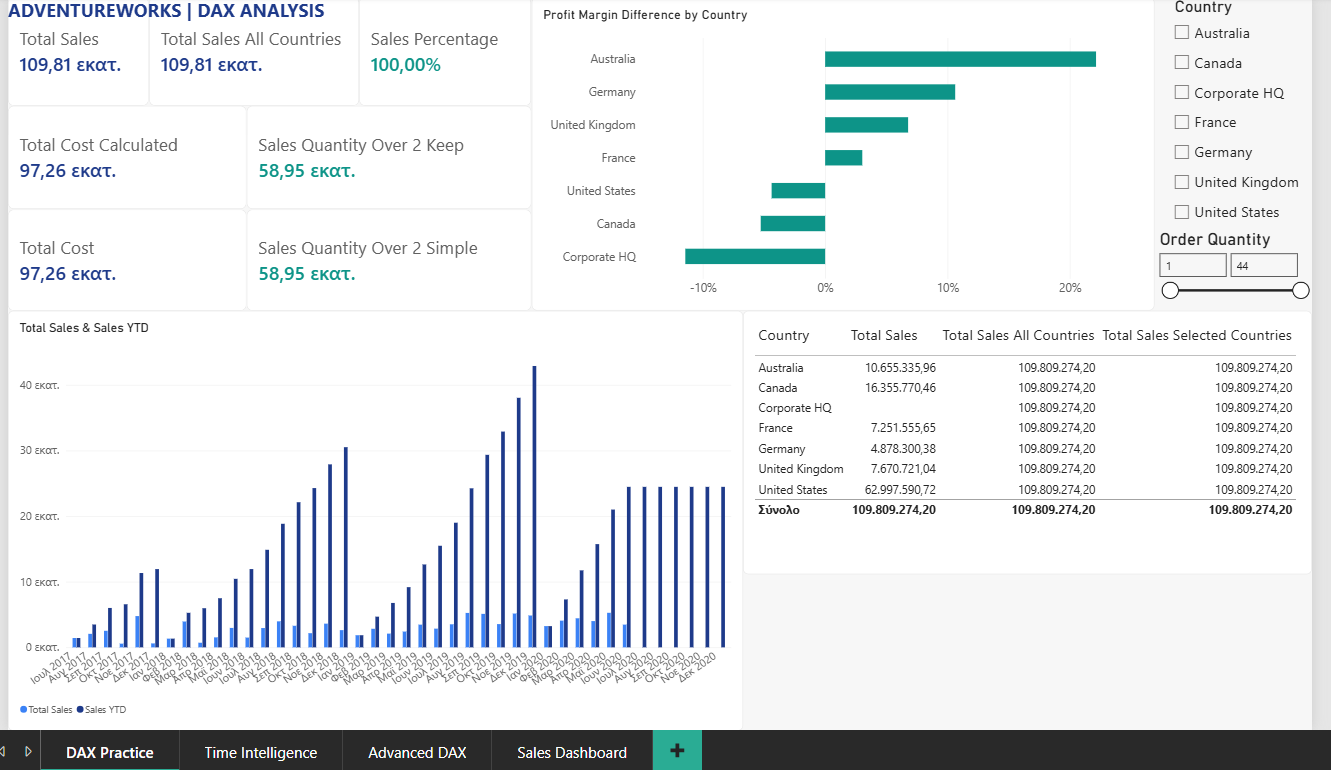

Layout of this report page (visuals, bound fields, positions):
{"tool":"powerbi","page":{"name":"DAX Practice","canvas":[1920,1080],"ordinal":0},"visuals":[{"type":"cardVisual","fields":{"Data":["Sales.Total Sales"]},"box":[0,0,208,160.1],"z":0},{"type":"slicer","fields":{"Values":["SalesTerritory.Country"]},"box":[1709.8,0,209.8,362.6],"z":1000},{"type":"cardVisual","fields":{"Data":["Sales.Total Sales All Countries"]},"box":[208,0,309.2,160.1],"z":2000},{"type":"cardVisual","fields":{"Data":["Sales.Sales Percentage"]},"box":[517.2,0,254,160.1],"z":3000},{"type":"cardVisual","fields":{"Data":["Sales.Total Cost"]},"box":[0,312.9,351.5,149.1],"z":4000},{"type":"cardVisual","fields":{"Data":["Sales.Total Cost Calculated"]},"box":[0,160.1,351.5,152.8],"z":5000},{"type":"clusteredBarChart","title":"Profit Margin Difference by Country","fields":{"Category":["SalesTerritory.Country"],"Y":["Sales.Profit Margin Difference"]},"box":[771.2,0,916.6,462],"z":6000},{"type":"slicer","fields":{"Values":["Sales.Order Quantity"]},"box":[1687.7,342.3,231.9,237.4],"z":7000},{"type":"cardVisual","fields":{"Data":["Sales.Sales Quantity Over 2 Simple"]},"box":[351.5,312.9,419.6,149.1],"z":8000},{"type":"cardVisual","fields":{"Data":["Sales.Sales Quantity Over 2 Keep"]},"box":[351.5,160.1,419.6,152.8],"z":9000},{"type":"tableEx","fields":{"Values":["SalesTerritory.Country","Sales.Total Sales","Sales.Total Sales All Countries","Sales.Total Sales Selected Countries"]},"box":[1082.2,462,837.4,388.3],"z":10000},{"type":"clusteredColumnChart","title":"Total Sales & Sales YTD","fields":{"Category":["Date.Month Year Label"],"Y":["Sales.Total Sales","Sales.Sales YTD"]},"box":[0,462,1082.2,618.4],"z":11000},{"type":"textbox","box":[0,0,583.4,51.5],"z":12000}]}

Visuals, with their boxes on the page's 1920x1080 design canvas (x1, y1, x2, y2). These are canvas units, not pixel positions in the 1331x770 screenshot, which may show the page scaled, cropped or inside an application window:
cardVisual - Sales.Total Sales: (left=0, top=0, right=208, bottom=160)
slicer - SalesTerritory.Country: (left=1710, top=0, right=1920, bottom=363)
cardVisual - Sales.Total Sales All Countries: (left=208, top=0, right=517, bottom=160)
cardVisual - Sales.Sales Percentage: (left=517, top=0, right=771, bottom=160)
cardVisual - Sales.Total Cost: (left=0, top=313, right=352, bottom=462)
cardVisual - Sales.Total Cost Calculated: (left=0, top=160, right=352, bottom=313)
"Profit Margin Difference by Country" clusteredBarChart: (left=771, top=0, right=1688, bottom=462)
slicer - Sales.Order Quantity: (left=1688, top=342, right=1920, bottom=580)
cardVisual - Sales.Sales Quantity Over 2 Simple: (left=352, top=313, right=771, bottom=462)
cardVisual - Sales.Sales Quantity Over 2 Keep: (left=352, top=160, right=771, bottom=313)
tableEx - SalesTerritory.Country x Sales.Total Sales: (left=1082, top=462, right=1920, bottom=850)
"Total Sales & Sales YTD" clusteredColumnChart: (left=0, top=462, right=1082, bottom=1080)
textbox: (left=0, top=0, right=583, bottom=52)
